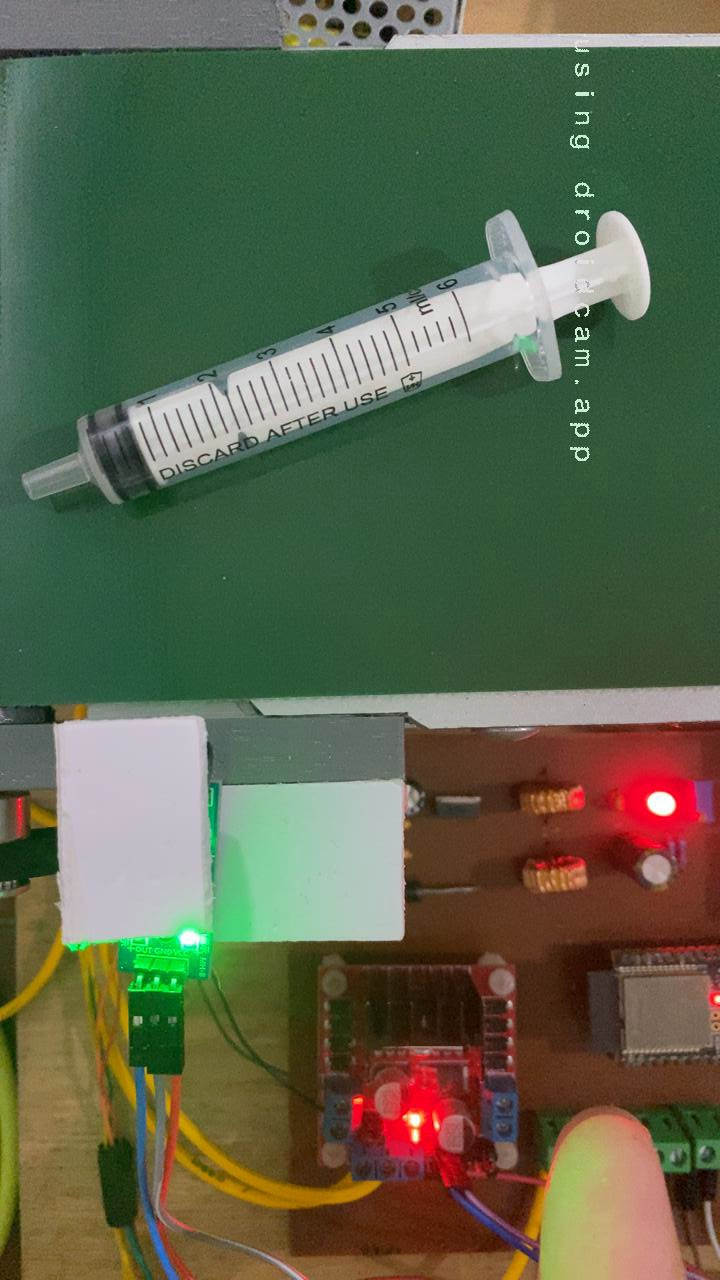syringe: (15, 204, 660, 507)
